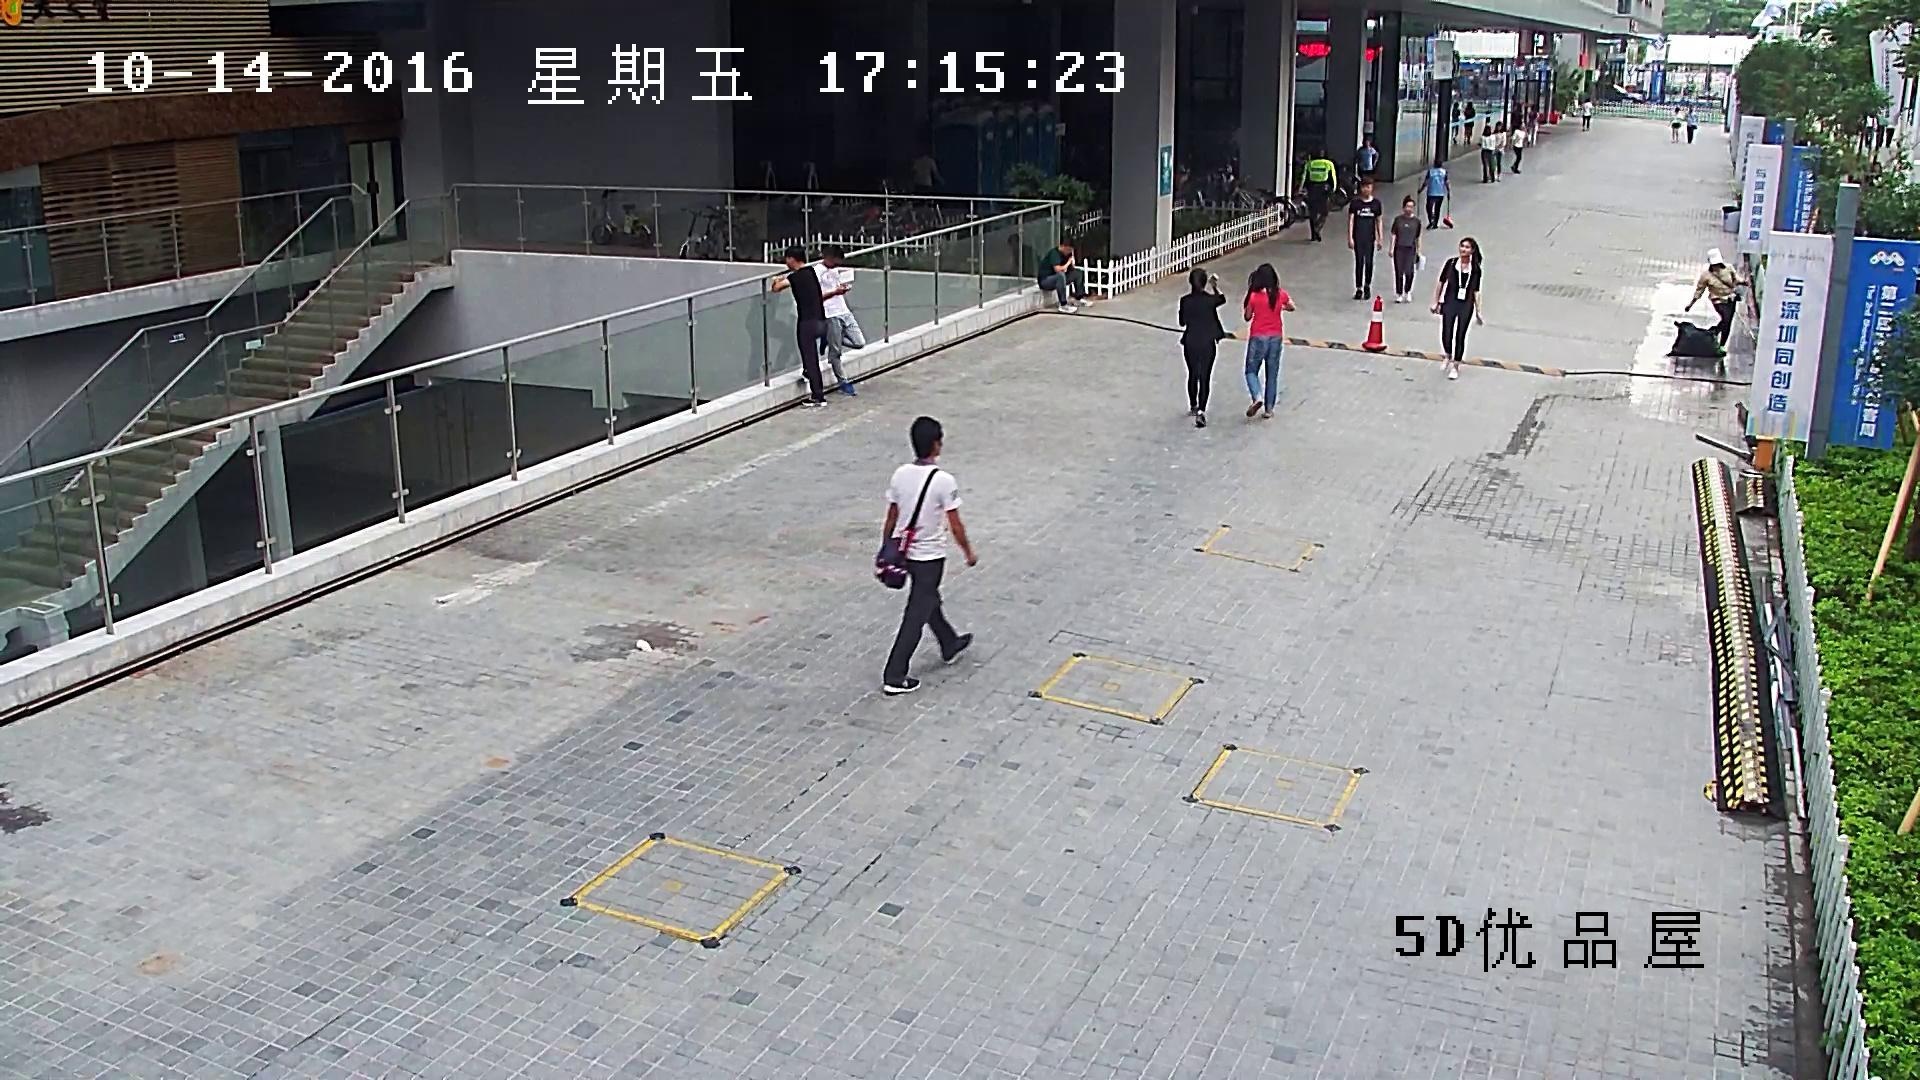person: (871, 415, 979, 696), (772, 245, 829, 408), (1241, 262, 1296, 418), (1428, 237, 1486, 381), (812, 244, 866, 396), (1179, 267, 1226, 427), (1684, 246, 1749, 357), (1035, 235, 1096, 314), (1346, 178, 1383, 300), (744, 290, 792, 383), (1386, 193, 1426, 304), (1296, 146, 1338, 243), (992, 232, 1039, 294), (1417, 157, 1454, 230), (1417, 158, 1448, 229), (910, 149, 945, 207), (1353, 135, 1380, 177), (1479, 124, 1497, 183), (1510, 122, 1529, 175), (1492, 121, 1507, 182), (1463, 100, 1476, 146), (1670, 107, 1682, 143), (1685, 106, 1697, 144), (1450, 101, 1461, 144), (1580, 96, 1592, 131), (1863, 114, 1874, 149)
